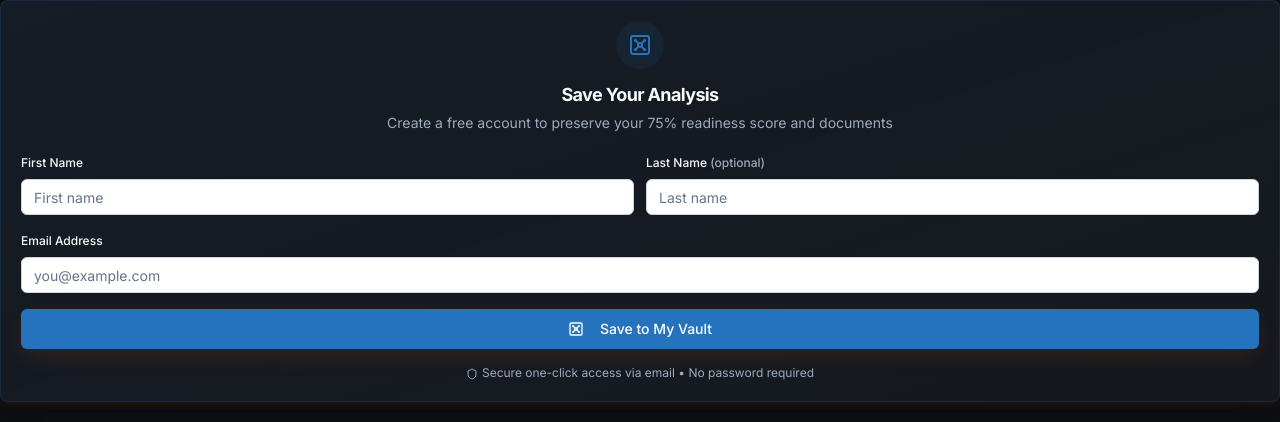
Test: ClaimVaultSyncButton › Form Submission › shows loading state during submission
Type "John" into the field labelled "First Name".
click(328, 197); type("John")  # box [21,179,634,215]
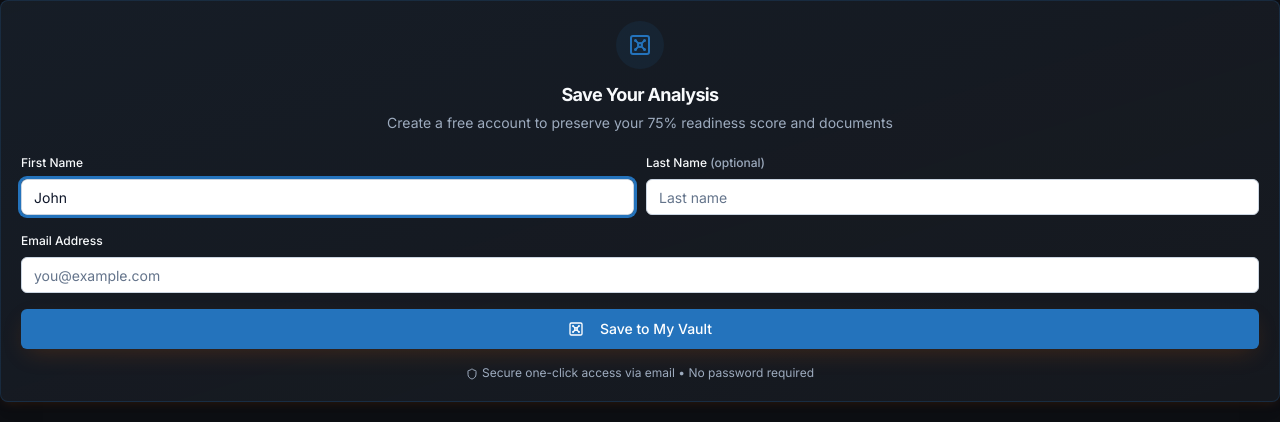
Type "john@example.com" into the field labelled "Email Address".
click(640, 275); type("john@example.com")  # box [21,257,1259,293]
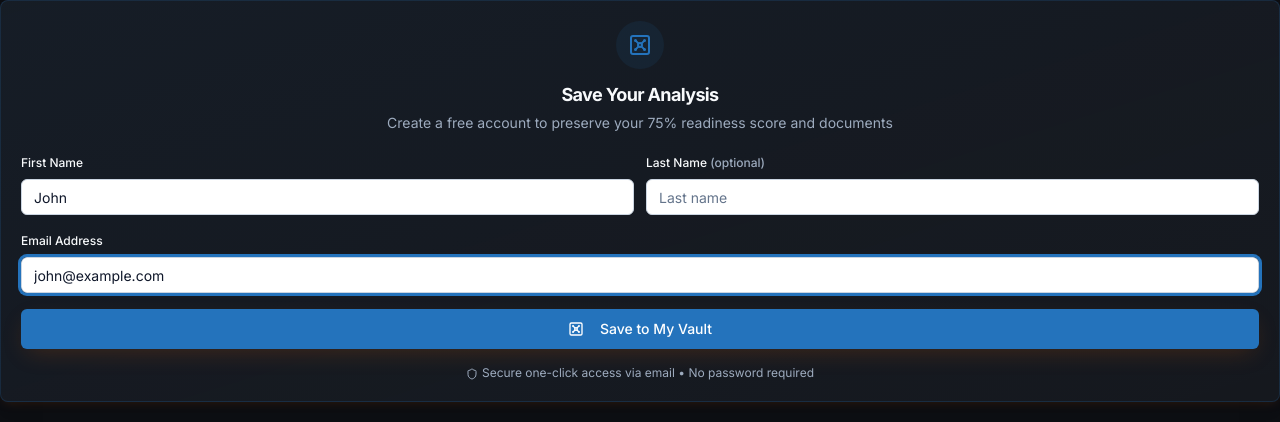
Click the button "Save to My Vault".
click(640, 329)  # box [21,309,1259,349]
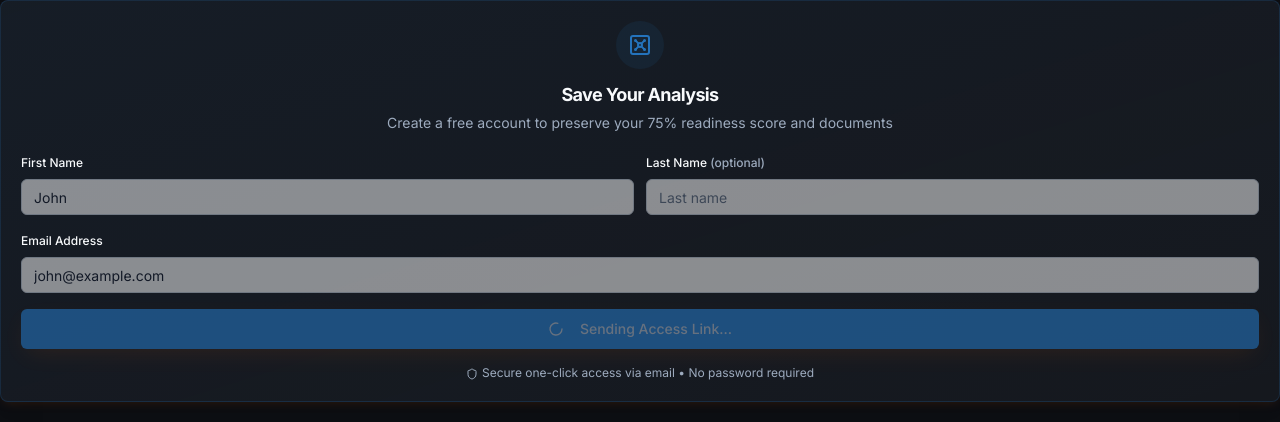
Expected: the button "Sending Access Link..." is shown, [21,309,1259,349]
